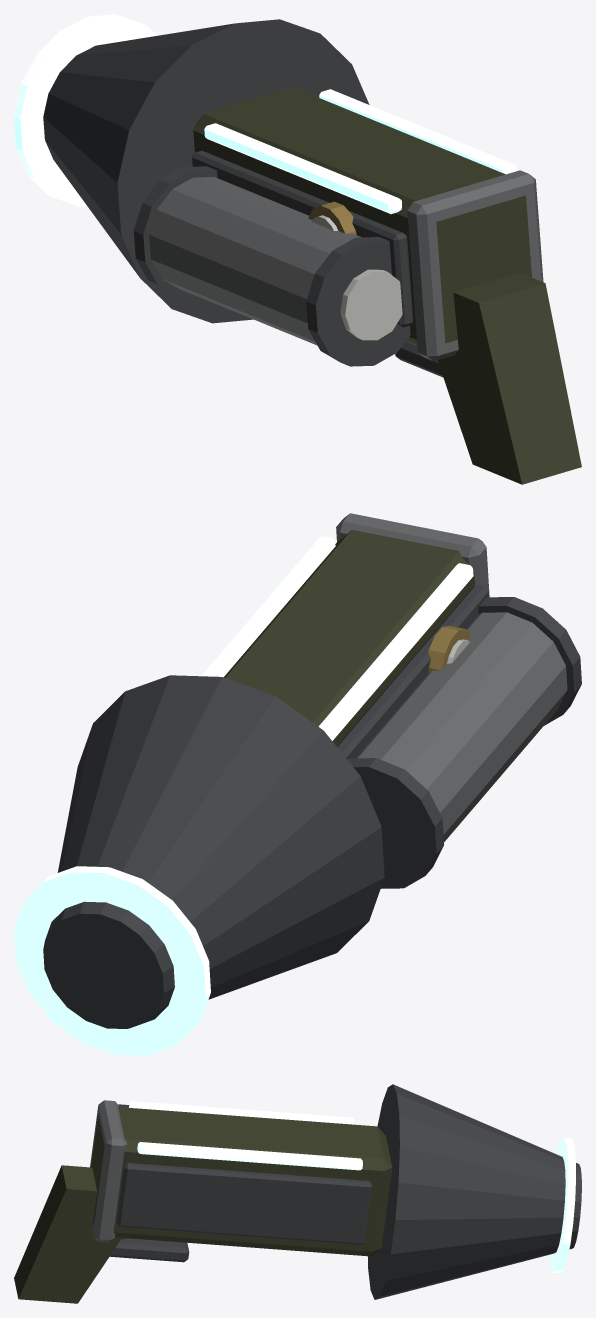
Rendered from build_gun.glb.
3 views of the same model, one above another, from view 1: azimuth 30°, elevation 25°; view 2: azimuth 150°, elevation 25°; view 3: azimuth 270°, elevation 25° (orthographic). The views are drawn at different scales.
Visible parts, largest first — view 1: build_gun_CastIron, build_gun_OliveDrab, build_gun_WeldedSteel, build_gun_ProjectorCyan, build_gun_GaugeGlass, build_gun_DullBrass; view 2: build_gun_CastIron, build_gun_WeldedSteel, build_gun_ProjectorCyan, build_gun_OliveDrab, build_gun_DullBrass; view 3: build_gun_CastIron, build_gun_OliveDrab, build_gun_ProjectorCyan, build_gun_WeldedSteel.
Part boxes in pixels (x1=…): build_gun_CastIron: x1=43, y1=19, x2=443, y2=377; build_gun_OliveDrab: x1=193, y1=87, x2=581, y2=484; build_gun_WeldedSteel: x1=149, y1=170, x2=543, y2=361; build_gun_ProjectorCyan: x1=14, y1=14, x2=516, y2=214; build_gun_GaugeGlass: x1=311, y1=215, x2=402, y2=340; build_gun_DullBrass: x1=308, y1=201, x2=356, y2=234; build_gun_CastIron: x1=43, y1=585, x2=581, y2=1028; build_gun_WeldedSteel: x1=336, y1=513, x2=567, y2=841; build_gun_ProjectorCyan: x1=14, y1=536, x2=473, y2=1055; build_gun_OliveDrab: x1=224, y1=530, x2=474, y2=746; build_gun_DullBrass: x1=428, y1=625, x2=470, y2=672; build_gun_CastIron: x1=110, y1=1084, x2=581, y2=1299; build_gun_OliveDrab: x1=14, y1=1107, x2=392, y2=1303; build_gun_ProjectorCyan: x1=129, y1=1101, x2=575, y2=1273; build_gun_WeldedSteel: x1=90, y1=1100, x2=127, y2=1242.
Bounding box in the file's own units: 0.2337 × 0.2223 × 0.5855.
